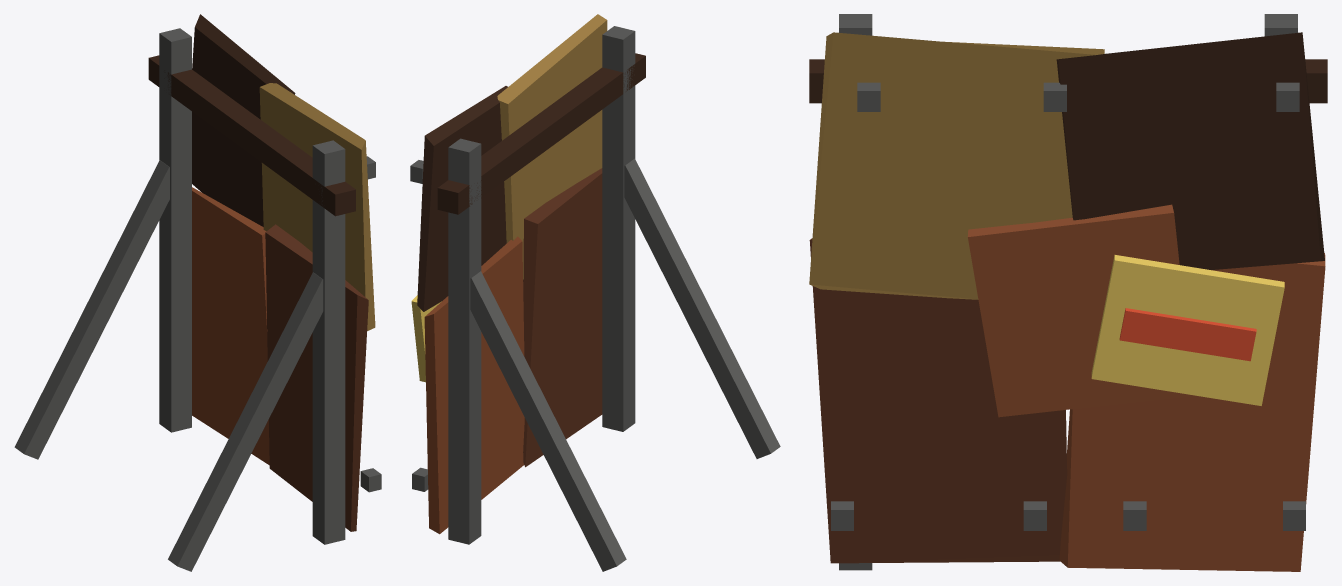
File: arm_scrap_panels.glb
3 renders of one model, left to right at view 1: azimuth 30°, elevation 25°; view 2: azimuth 150°, elevation 25°; view 3: azimuth 270°, elevation 25°, orthographic. The views are drawn at different scales.
Parts seen in each view (by area): view 1: arm_scrap_panels; view 2: arm_scrap_panels; view 3: arm_scrap_panels.
Part boxes in pixels (x1,y1,x2,y2): arm_scrap_panels: (14,14,381,571); arm_scrap_panels: (410,14,780,571); arm_scrap_panels: (809,14,1327,571).
Size of the model in its own units: 0.5121 by 0.9175 by 0.78.
